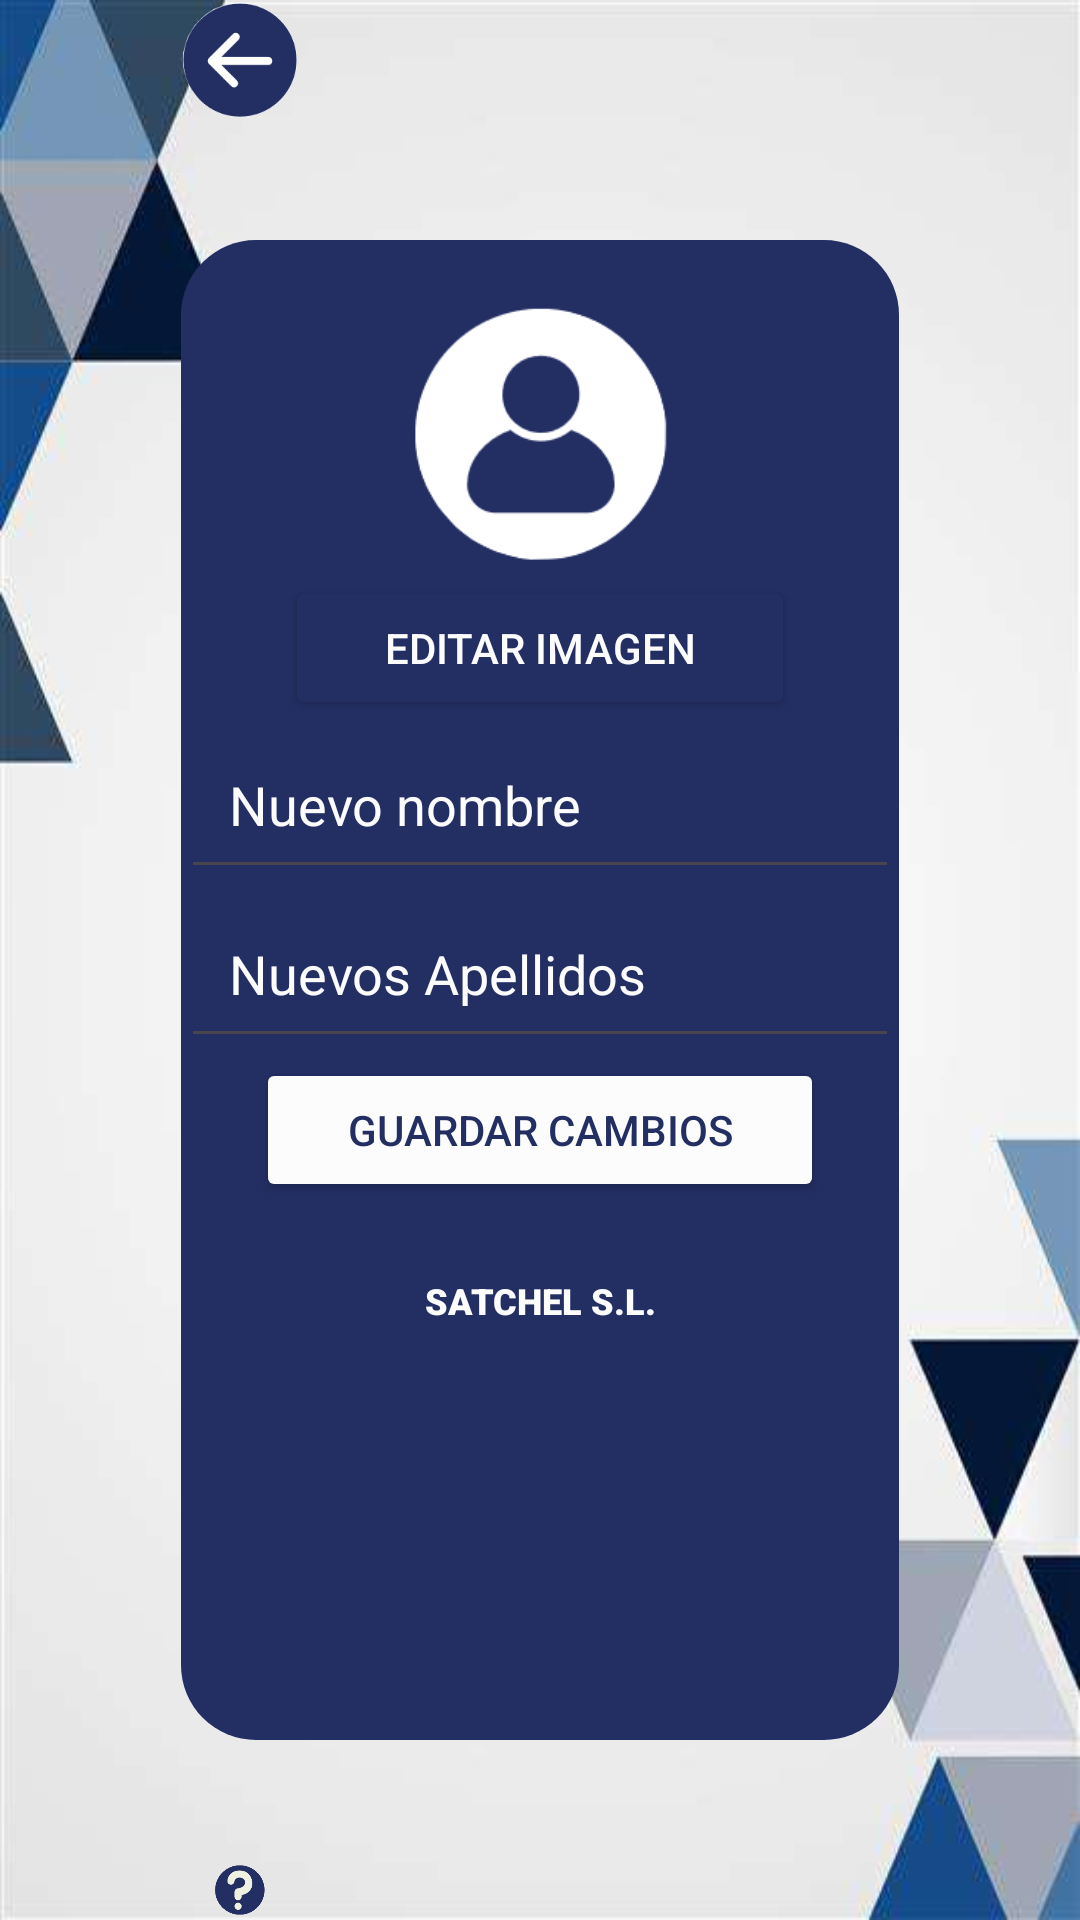

Icons on this 1080×1920 Android screen, each with the point to tap as (x=x, y=y):
goback: (x=239, y=58)
help: (x=240, y=1890)
profilewhite: (x=541, y=434)
